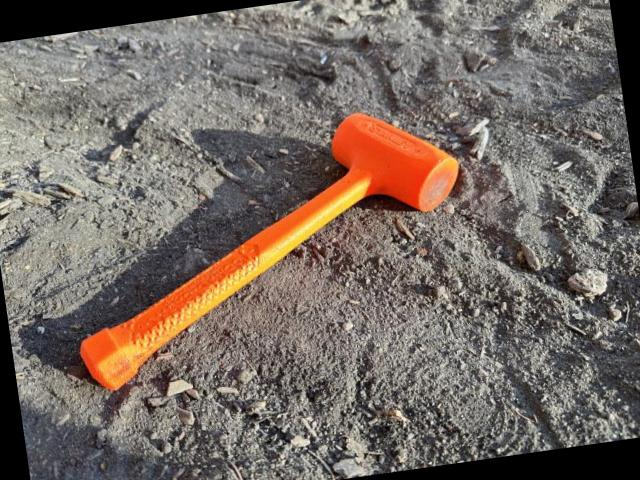hammer: (52, 101, 482, 394)
